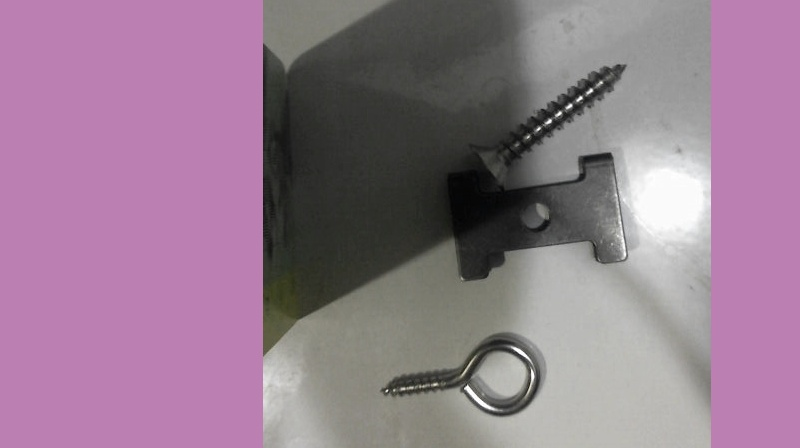O001: (374, 335, 543, 425)
O002: (444, 150, 629, 282)
S001: (461, 58, 627, 187)
